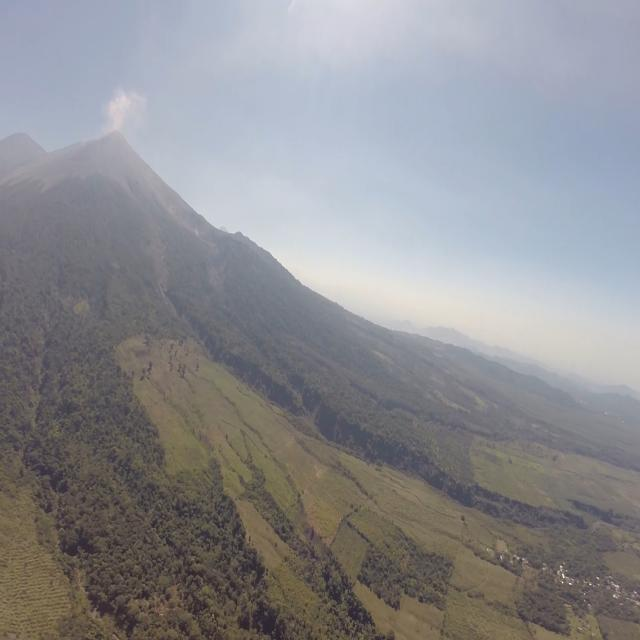Plume: (102, 87, 147, 134)
Summit: (104, 127, 130, 142)
